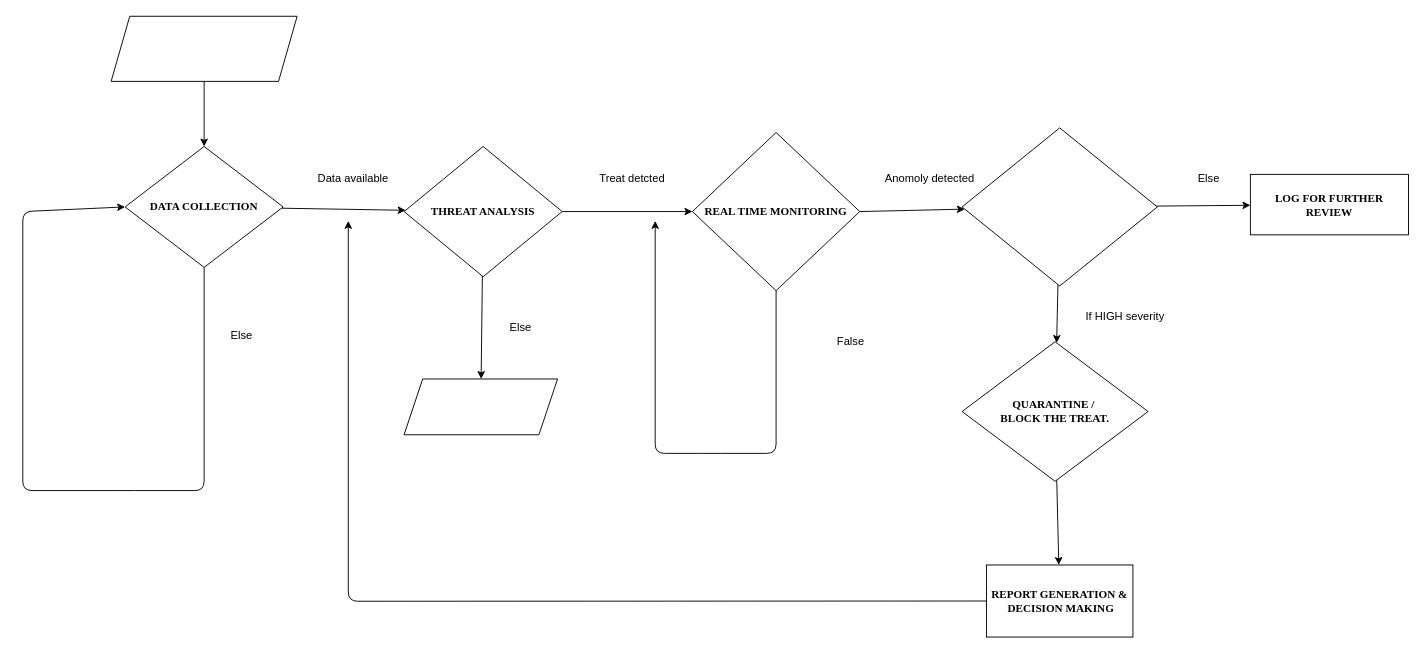
The diagram is 1425 pixels wide and 654 high, and some of its shapes have lost their labels. The shapes that lost their labels are listed below. From the top down, each one's centre as x and y in pixels, then its label:
At point (203, 48): "SESSION INITIALISATION".
At point (1059, 206): "INCIDENT RESPONSE & MIGITATION".
At point (480, 406): "END OF PROCESS".
